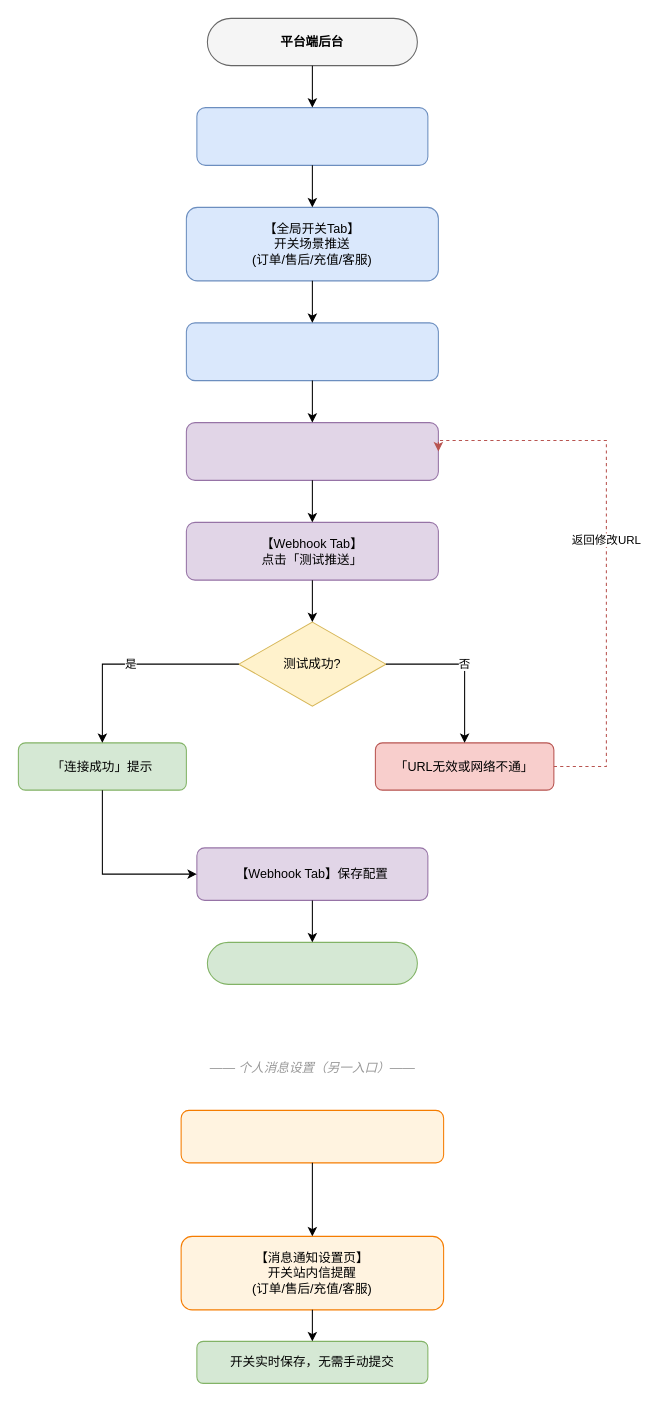
Image size: 659x1402. Some labels were removed from this diagram. The shapes that lost their labels are listed below. From the top down, each one's centre as x and y in pixels, then its label:
At (312,136): "【系统管理】点击「飞书通知配置」".
At (311,351): "【全局开关Tab】 切换到Webhook配置Tab".
At (311,451): "【Webhook Tab】 填写各群Webhook URL".
At (311,962): "「保存成功」提示".
At (312,1136): "【个人中心】点击「消息通知设置」".
